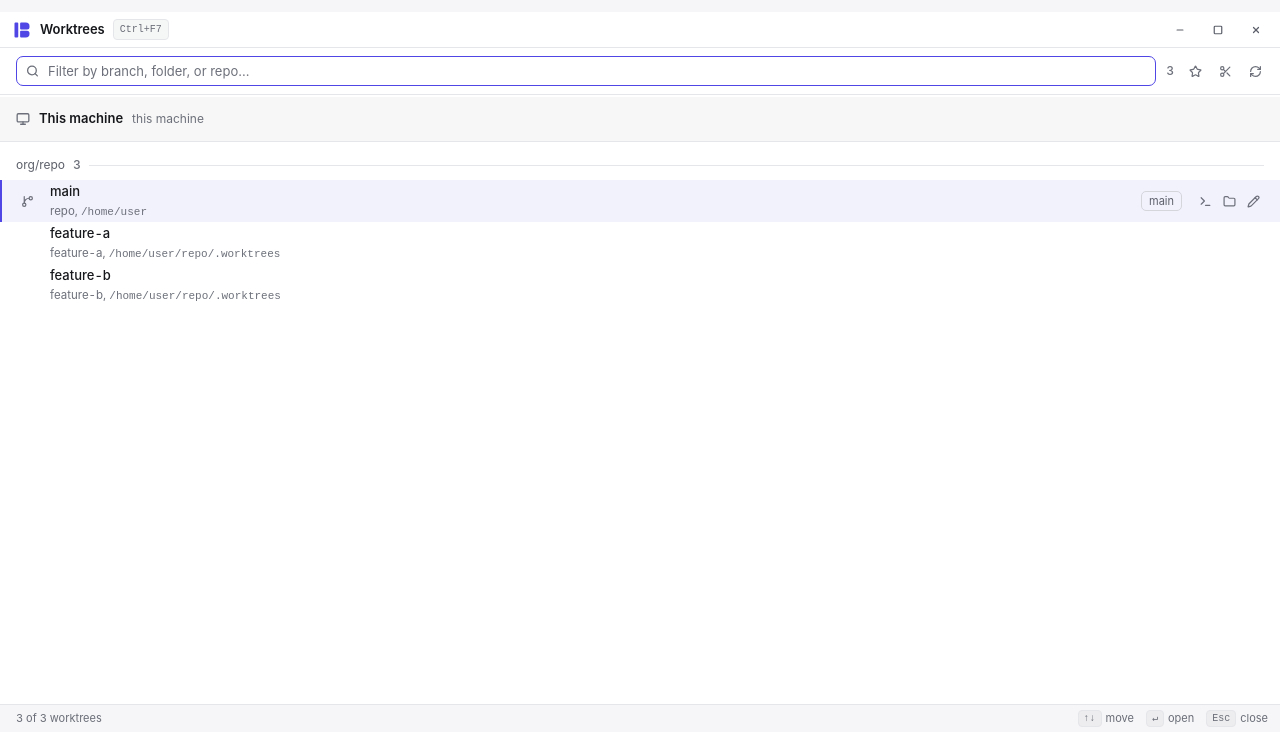
it: WorktreePaletteApp › clears search when clear button is clicked
Type "feature-a" into the field with placeholder "Filter by branch, folder, or repo..." at (586, 71), box [16,56,1156,86]
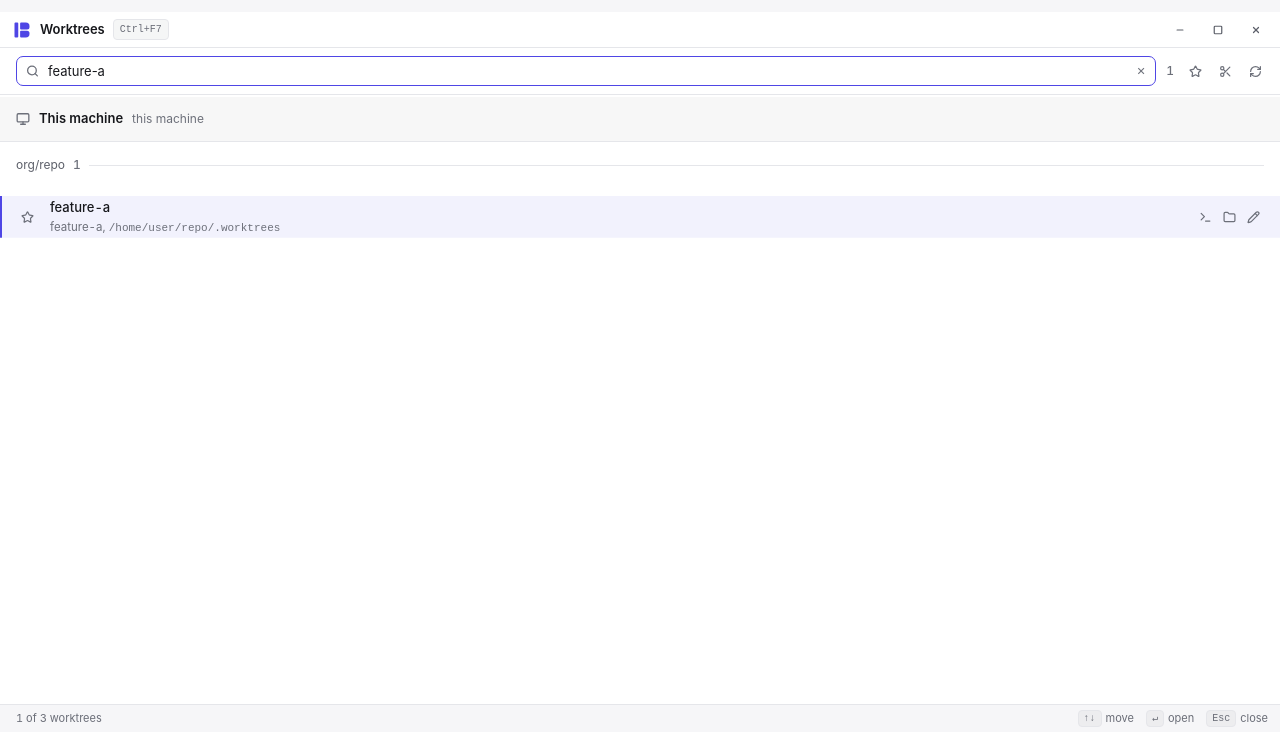
Click the button with class "bd-wt-search-clear" at (1141, 71), box [1131,61,1151,81]
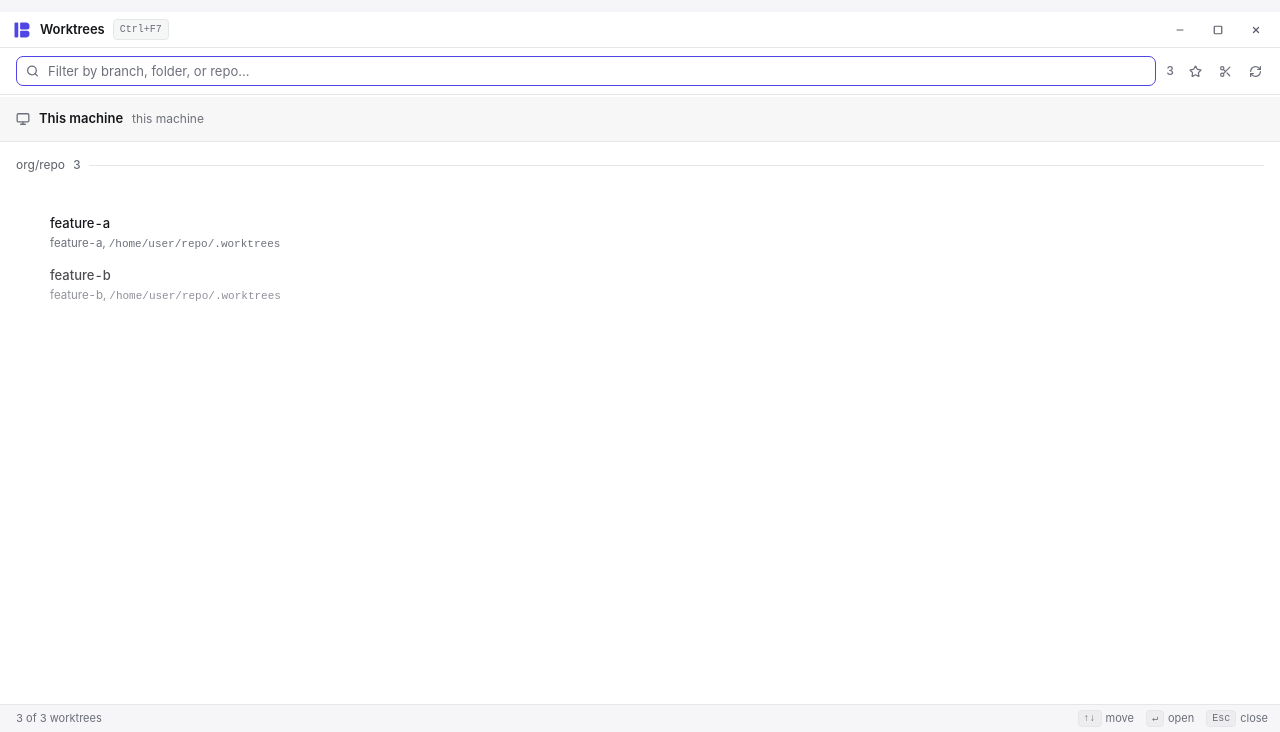
Expected: the text "feature-a" is shown, [50,222,110,238]
Result: the text "feature-b" is shown at [50,267,111,283]
